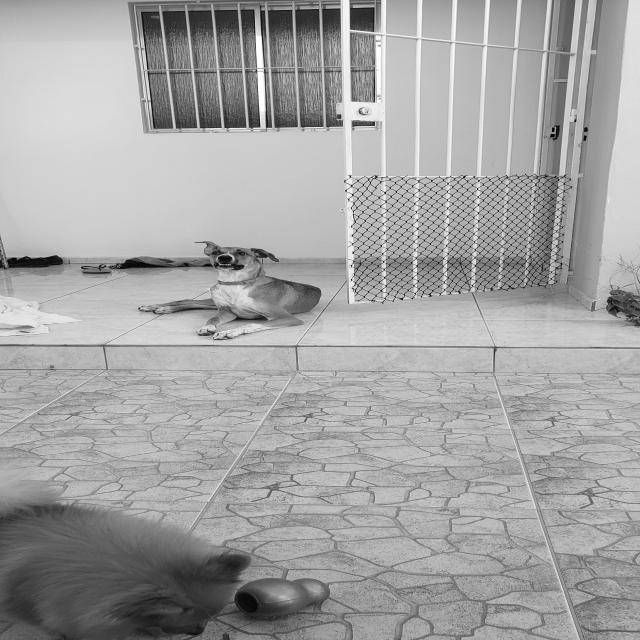laying down: (134, 238, 330, 343)
